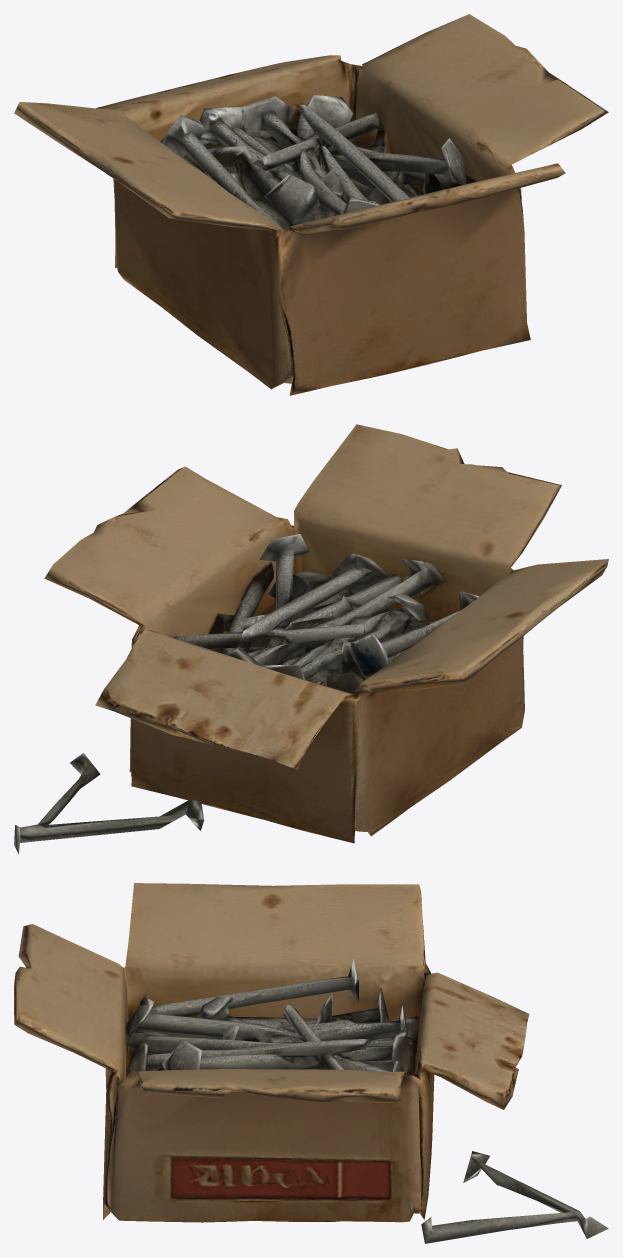
Rendered from nails.glb.
3 renders of one model, top to bottom at view 1: azimuth 30°, elevation 25°; view 2: azimuth 150°, elevation 25°; view 3: azimuth 270°, elevation 25°, orthographic. The views are drawn at different scales.
Parts seen in each view (by area): view 1: nails; view 2: nails; view 3: nails.
Boxes of the visible parts, bbox=[...] form: nails: bbox=[14, 14, 608, 395]; nails: bbox=[14, 424, 608, 854]; nails: bbox=[14, 883, 608, 1243].
Size of the model in its own units: 0.1202 by 0.0581 by 0.15.
1 material, 1 textured.
